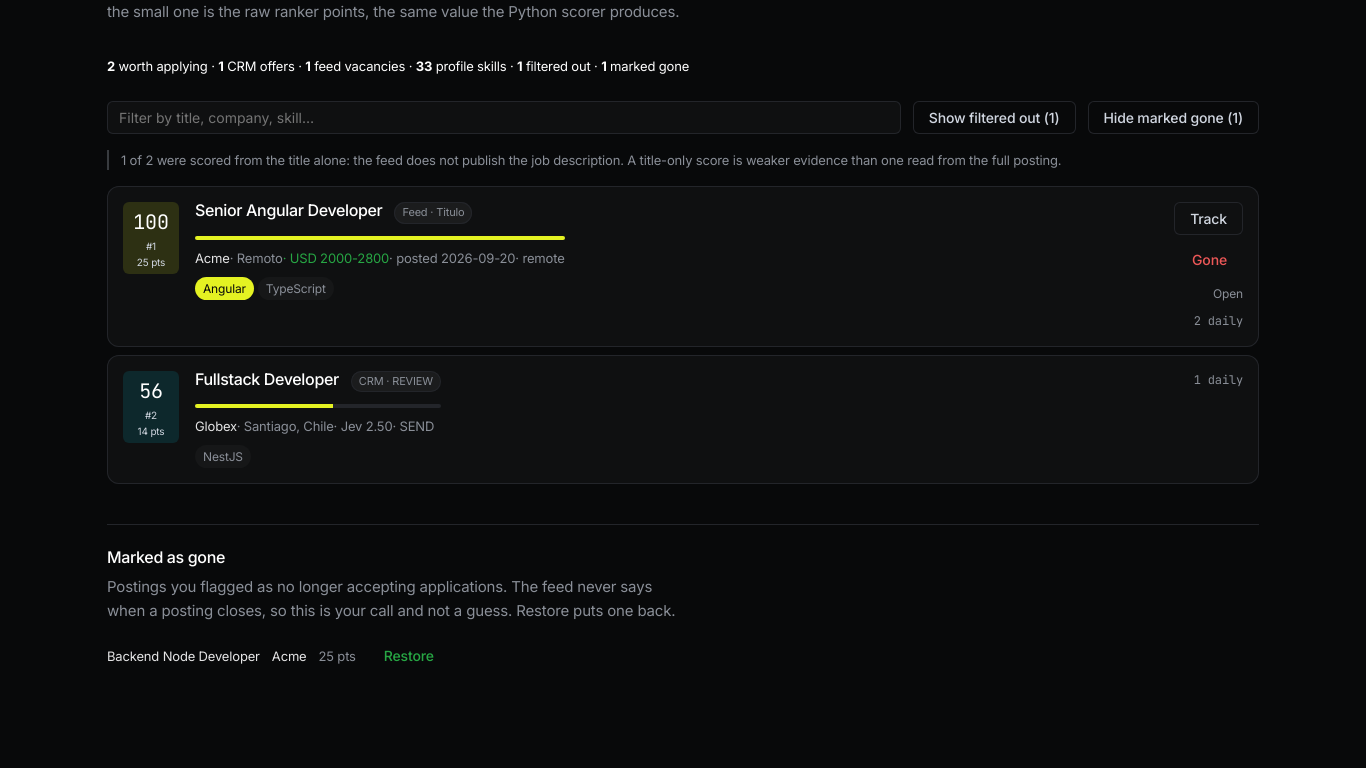
Test case: ScoreboardComponent › keeps the gone list behind a toggle, and restores from there
(page scrolled)
Expected: the list with class "flagged-list" is shown, [107,639,450,672]
Expected: the list with class "flagged-list" shows "Backend Node Developer", [107,648,260,664]
Click the button with class "btn-ok". click: (409, 655)
box: [368,639,450,672]
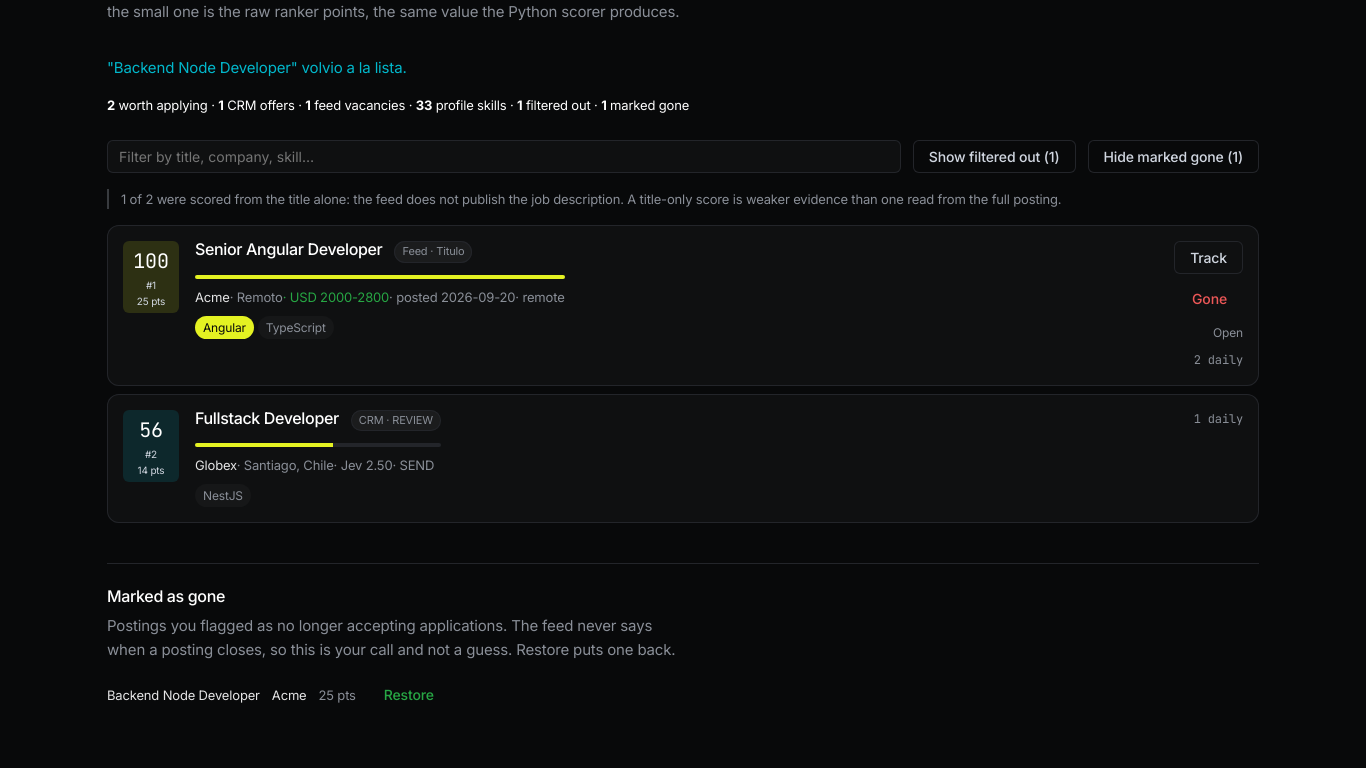
Result: the text "volvio a la lista" is shown at [107,58,407,77]
